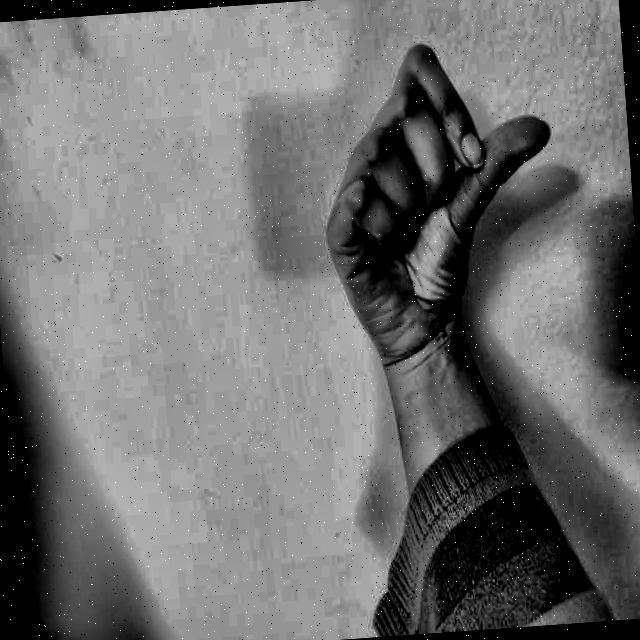Ay: (293, 4, 588, 412)
